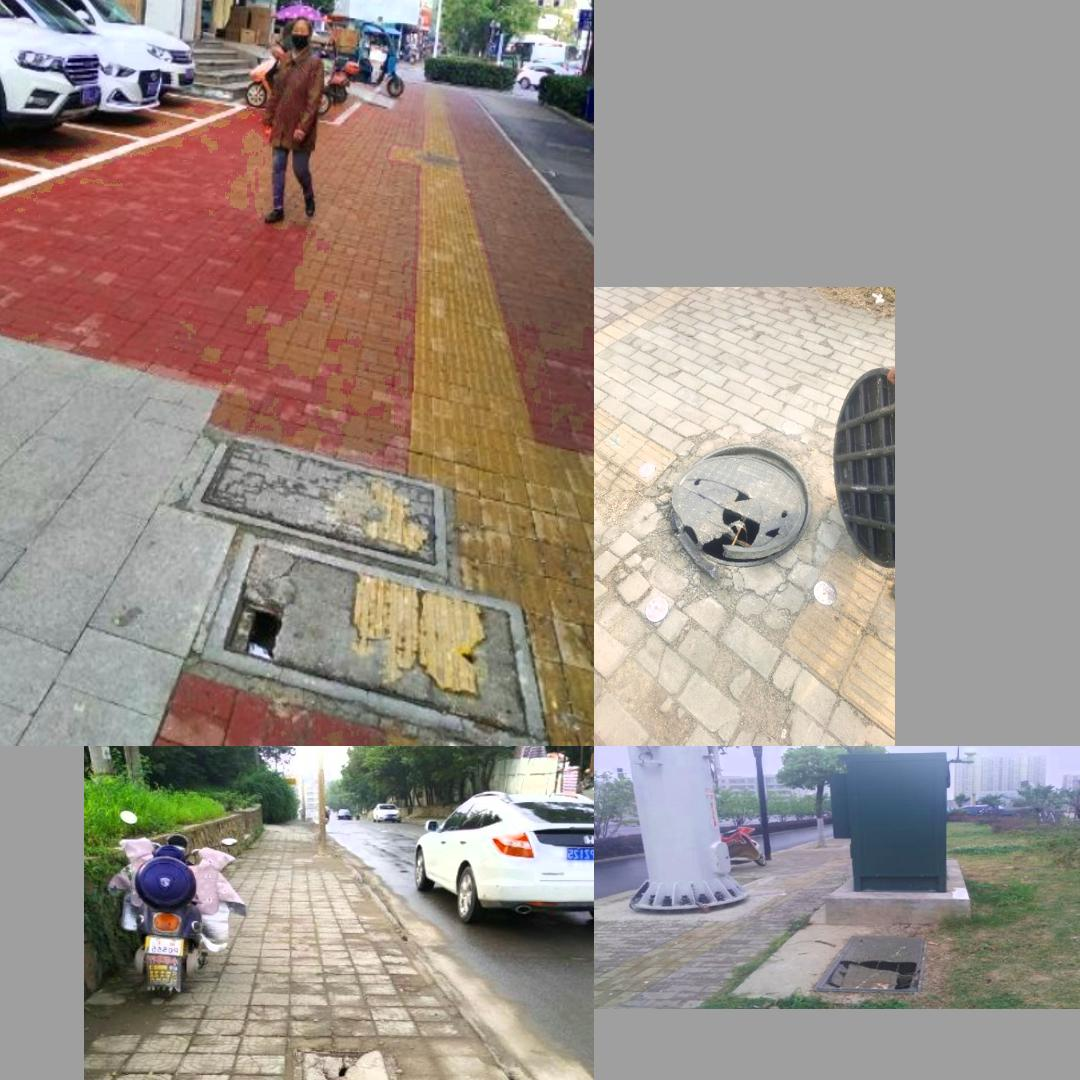broke: (196, 530, 555, 746), (670, 442, 812, 566), (810, 933, 927, 994), (286, 1046, 404, 1080)
good: (188, 431, 448, 574)
